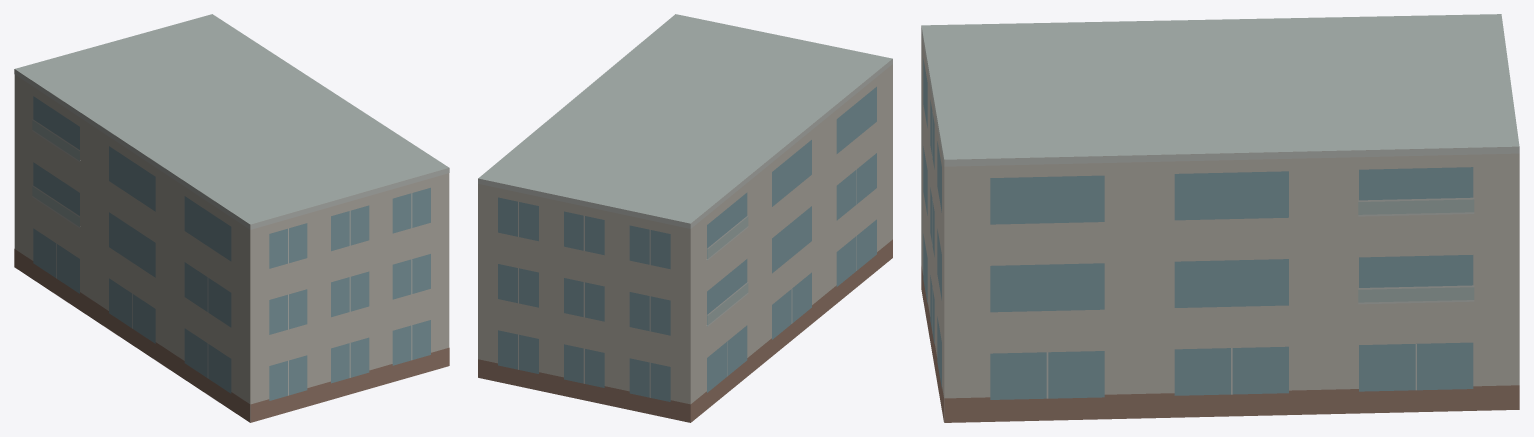
Rendered from survey-upis-32986836.glb.
The picture shows the model from 3 angles, left to right: view 1: azimuth 30°, elevation 25°; view 2: azimuth 150°, elevation 25°; view 3: azimuth 270°, elevation 25°; orthographic projection. The views are drawn at different scales.
Parts seen in each view (by area): view 1: survey-upis-32986836.tmp; view 2: survey-upis-32986836.tmp; view 3: survey-upis-32986836.tmp.
Boxes of the visible parts, x1,y1,x2,y2 form: survey-upis-32986836.tmp: [14, 14, 449, 422]; survey-upis-32986836.tmp: [478, 14, 892, 422]; survey-upis-32986836.tmp: [921, 14, 1519, 422].
Size of the model in its own units: 10.88 by 9.15 by 18.86.
